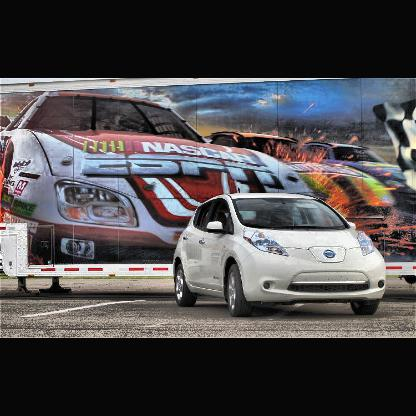Nissan Leaf Hatchback 2012: (2, 93, 317, 264)
